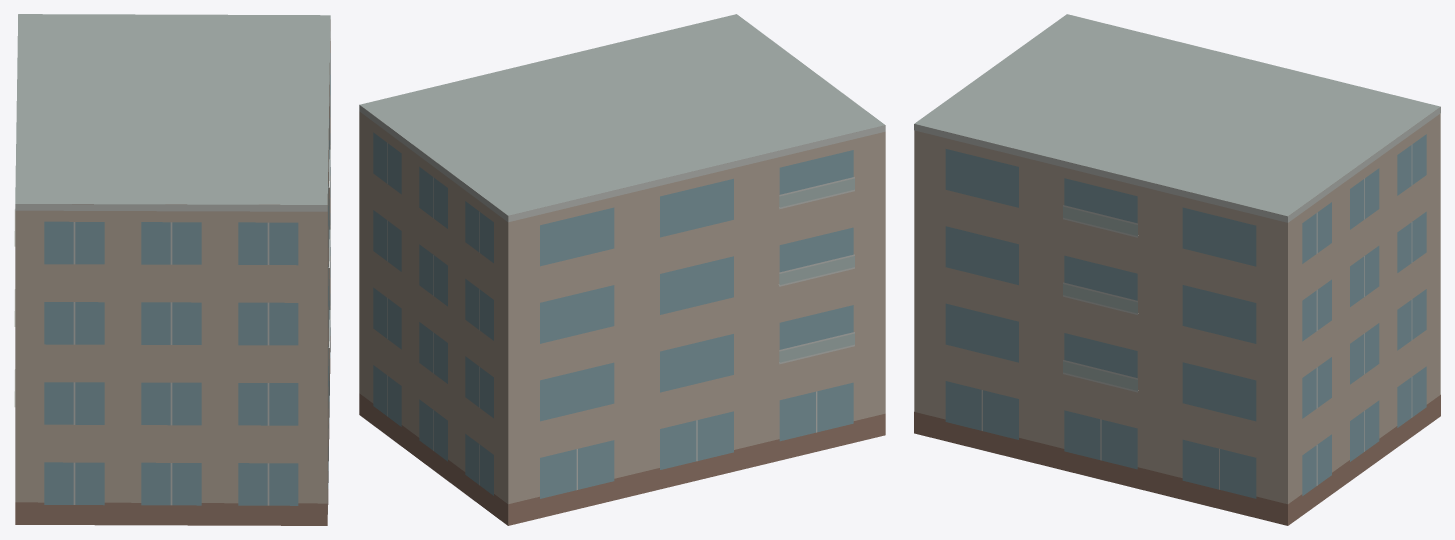
The model's file is survey-upis-32668506.glb.
The picture shows the model from 3 angles, left to right: view 1: azimuth 30°, elevation 25°; view 2: azimuth 150°, elevation 25°; view 3: azimuth 270°, elevation 25°; orthographic projection. The views are drawn at different scales.
Parts seen in each view (by area): view 1: survey-upis-32668506.tmp; view 2: survey-upis-32668506.tmp; view 3: survey-upis-32668506.tmp.
Boxes of the visible parts, x1,y1,x2,y2 form: survey-upis-32668506.tmp: (14, 14, 330, 525); survey-upis-32668506.tmp: (359, 14, 885, 525); survey-upis-32668506.tmp: (914, 14, 1440, 525).
Size of the model in its own units: 16.13 by 11.5 by 17.74.
